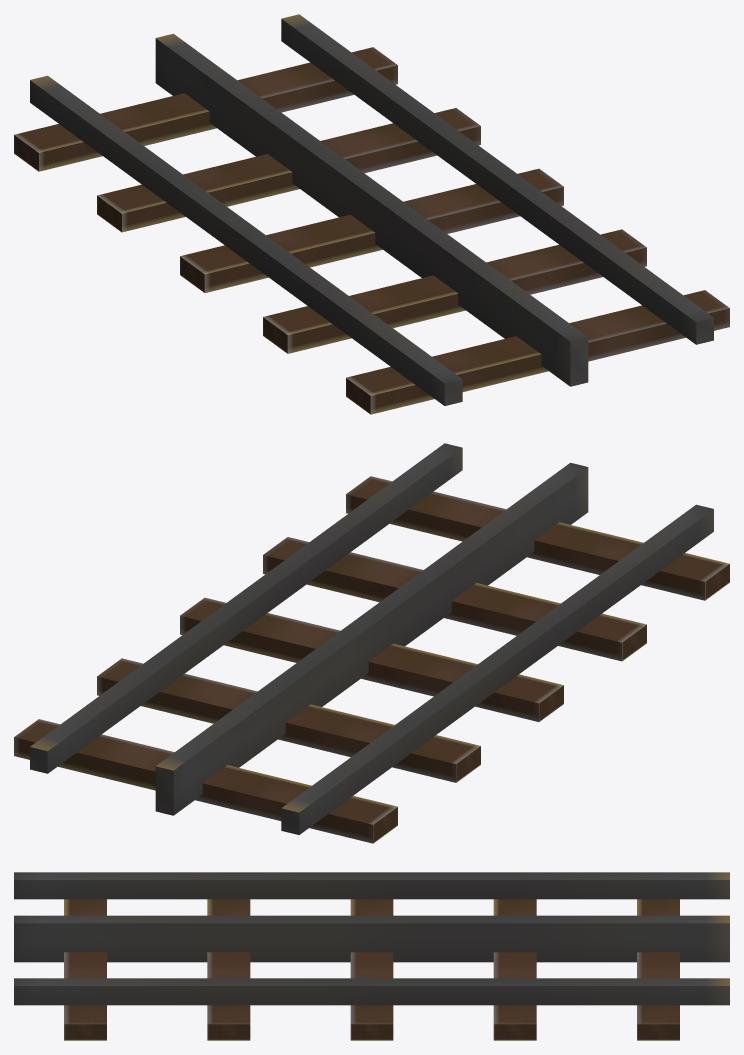
The model's file is track_straight.obj.
3 renders of one model, top to bottom at view 1: azimuth 30°, elevation 25°; view 2: azimuth 150°, elevation 25°; view 3: azimuth 270°, elevation 25°, orthographic. The views are drawn at different scales.
Parts seen in each view (by area): view 1: track_straight; view 2: track_straight; view 3: track_straight.
Part boxes in pixels (box(x1,y1,x2,y2)): track_straight: box(14, 14, 729, 414); track_straight: box(14, 443, 729, 843); track_straight: box(14, 872, 729, 1040).
Size of the model in its own units: 1 by 0.14 by 2.
1 material, 1 textured.
